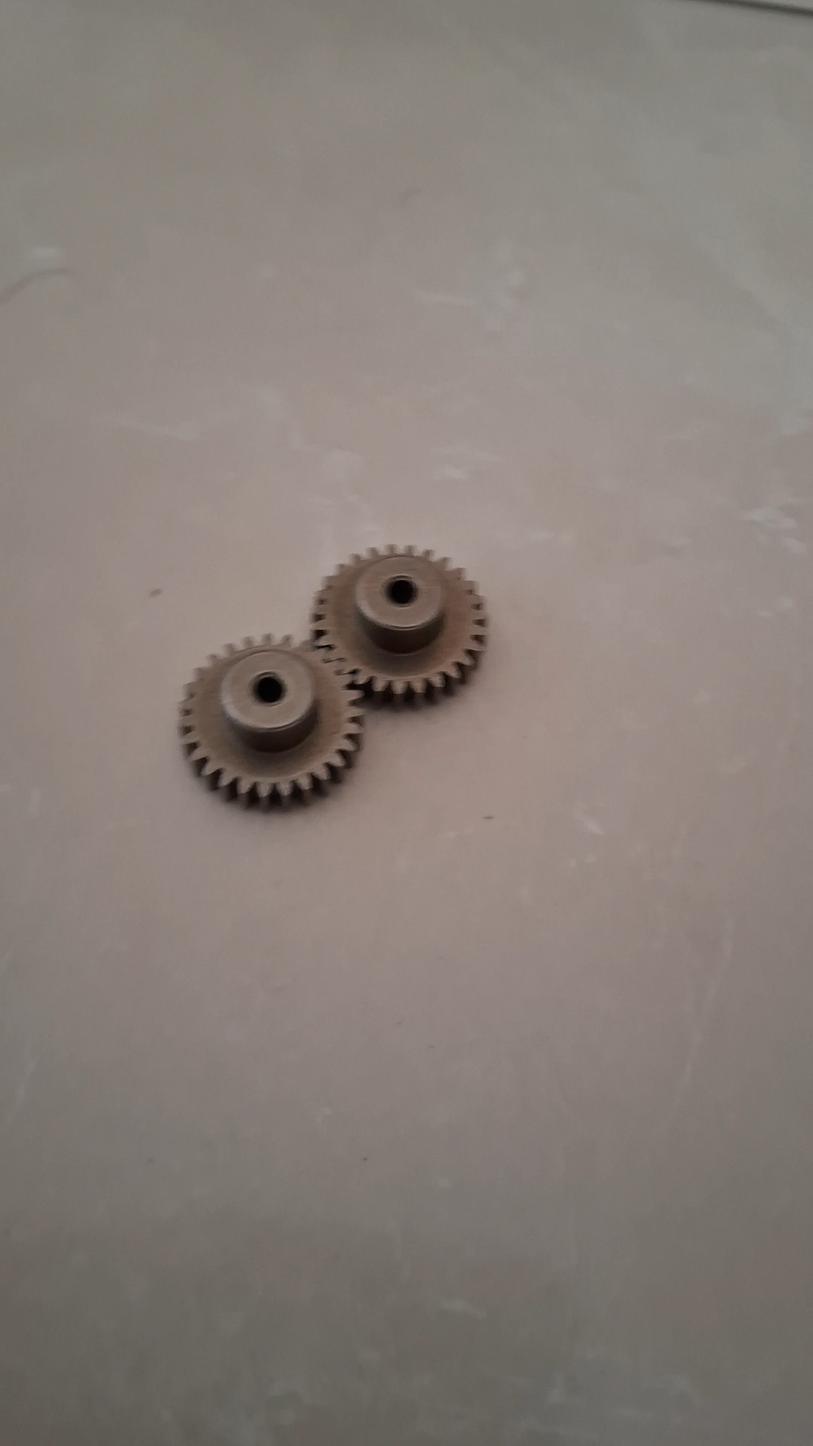spur gear: (179, 635, 363, 807), (311, 546, 487, 700)
